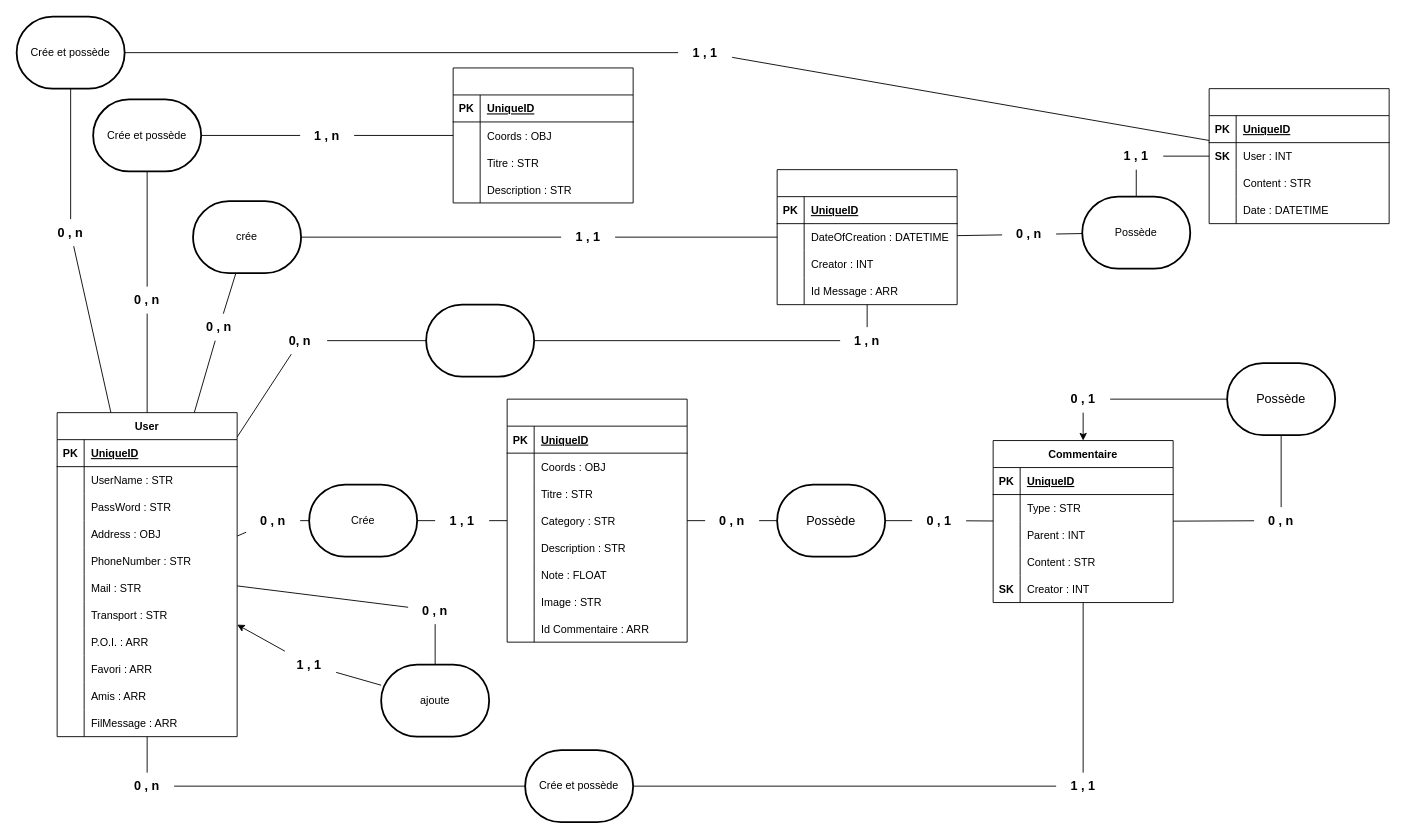
Some shapes in this 1405 by 838 pixel diagram are drawn without their labels. The box of each missing label's shape, as (x1, y1, x2, y2) in pixels:
Favori: (452, 67, 633, 203)
FillMessage: (776, 169, 957, 305)
Message: (1208, 88, 1389, 224)
P.O.I.: (506, 398, 687, 642)
Participant: (425, 303, 535, 377)
